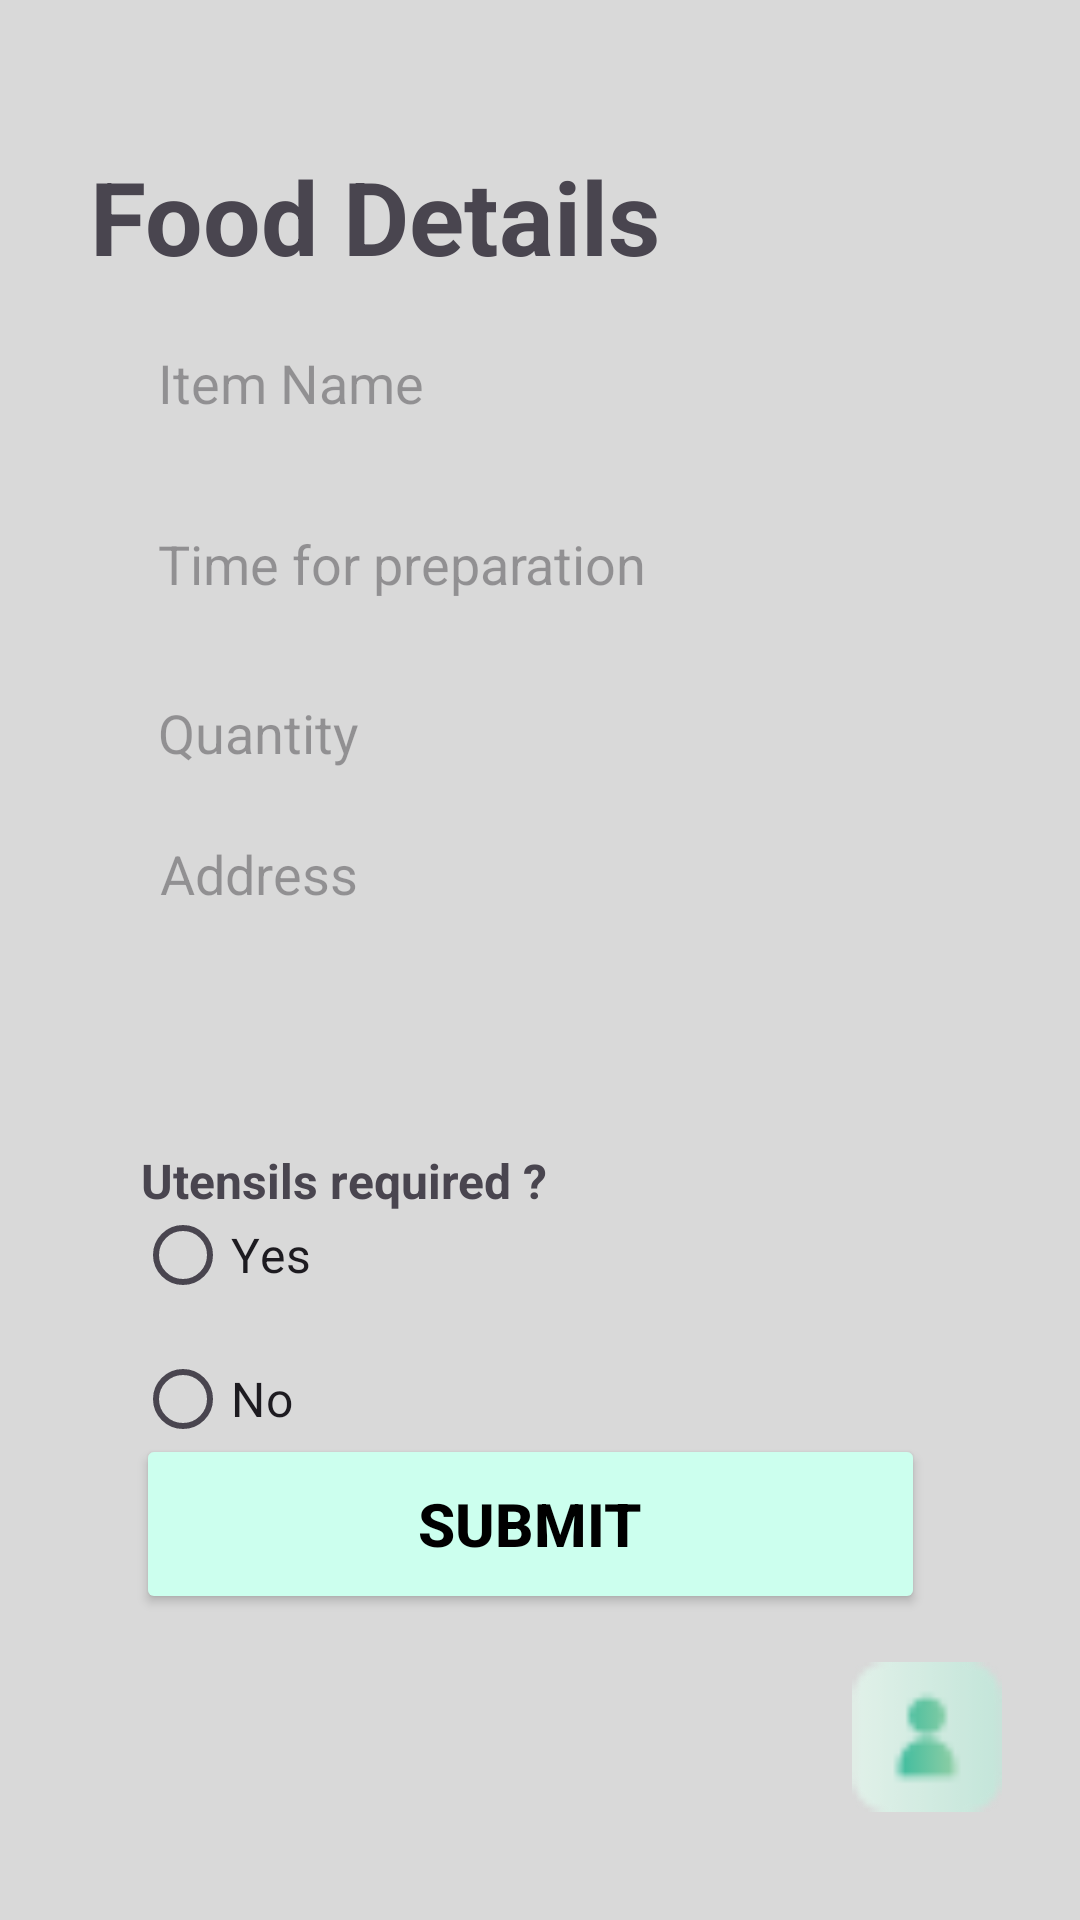

Icons on this 1080×1920 Android screen, each with its box as (x1,y1,x2,y2):
profile: (895,1694,959,1781)
